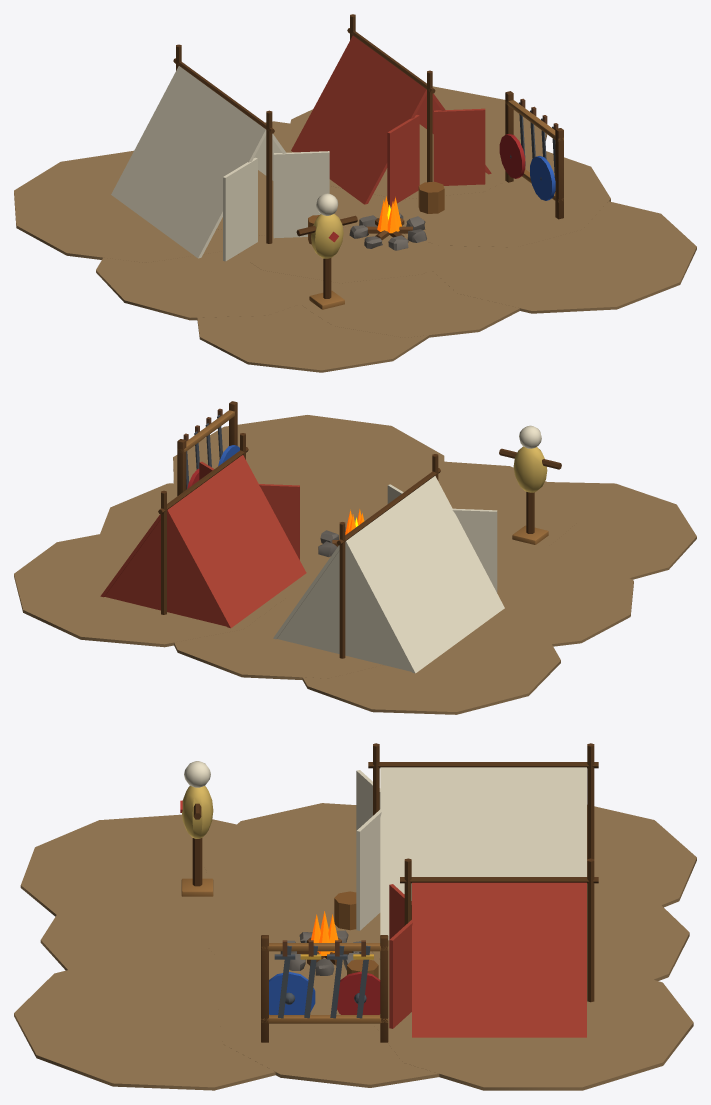
File: koszary_poz03.glb
The picture shows the model from 3 angles, top to bottom: view 1: azimuth 30°, elevation 25°; view 2: azimuth 150°, elevation 25°; view 3: azimuth 270°, elevation 25°; orthographic projection. The views are drawn at different scales.
Visible parts, largest first — view 1: koszary_poz03; view 2: koszary_poz03; view 3: koszary_poz03.
Boxes of the visible parts, x1,y1,x2,y2 form: koszary_poz03: (14,14,696,372); koszary_poz03: (14,401,696,714); koszary_poz03: (14,743,696,1090).
Size of the model in its own units: 8.55 by 2.3 by 8.6.
